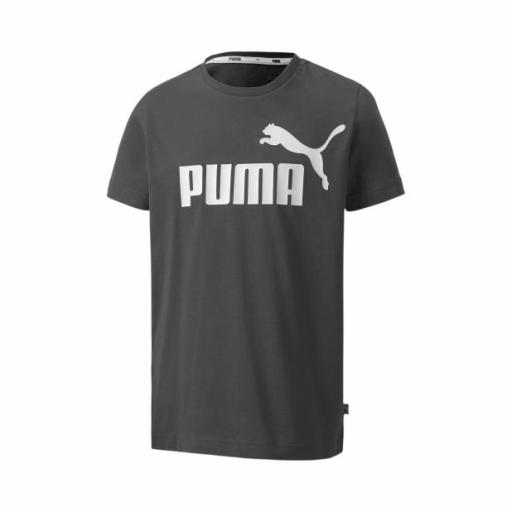Puma: (258, 118, 348, 194)
